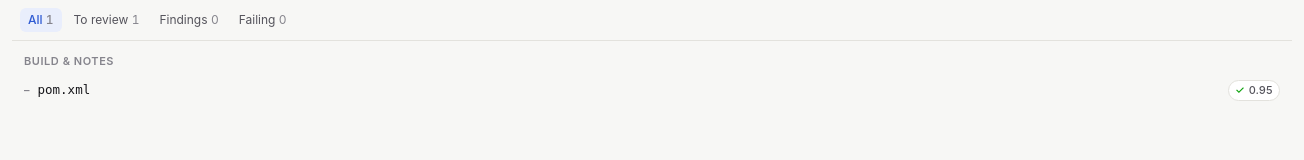
Test: FileTree › shows each filter count and an empty state
Click the tab "Findings 0" at (189, 20), box [151,8,227,32]
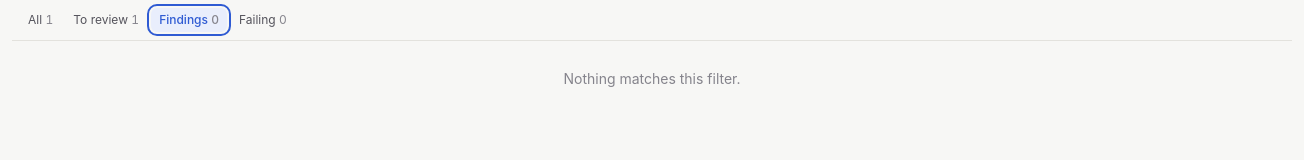
Expected: the text "Nothing matches this filter." is shown, [563,70,740,87]
